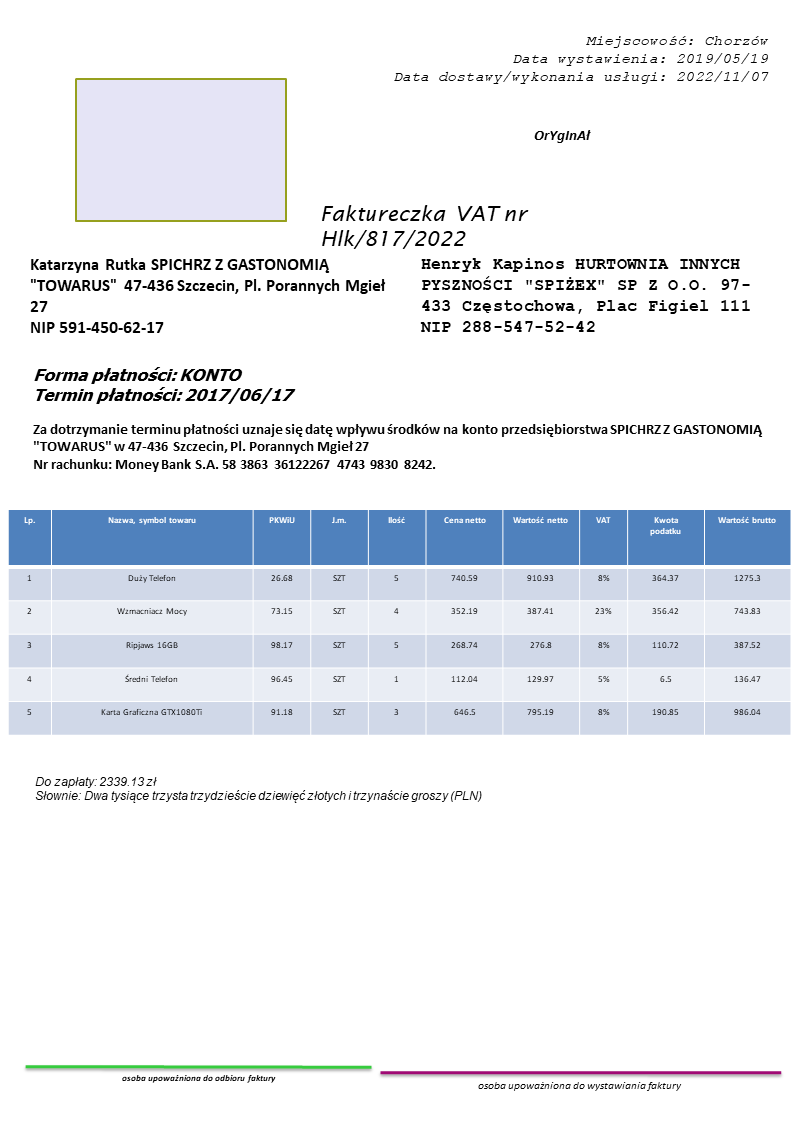Table: (7, 509, 792, 733)
TextBox: (30, 421, 768, 475), (26, 254, 390, 337), (418, 254, 752, 336), (390, 32, 771, 85), (31, 771, 485, 807), (31, 364, 298, 406), (318, 200, 529, 251), (474, 1079, 685, 1095), (119, 1071, 275, 1085), (532, 126, 593, 146)
